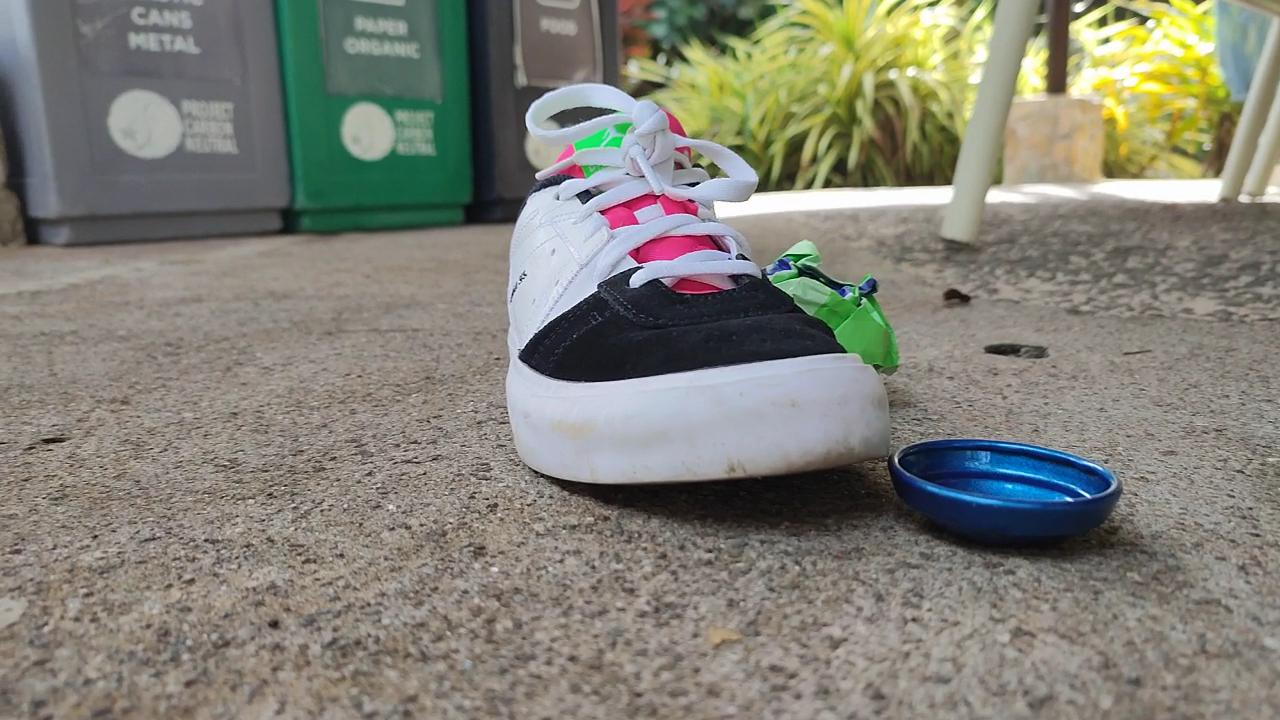Paper: (762, 222, 907, 386)
